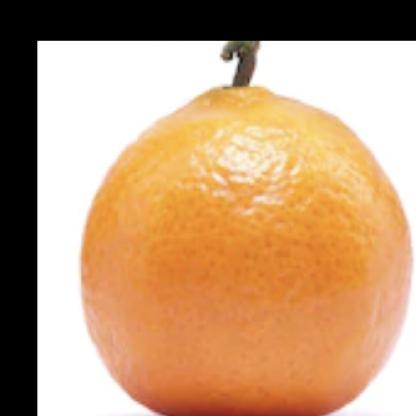fresh: (79, 79, 410, 416)
